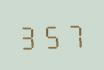five: (41, 20, 62, 49)
seven: (63, 19, 84, 48)
three: (18, 21, 39, 50)
